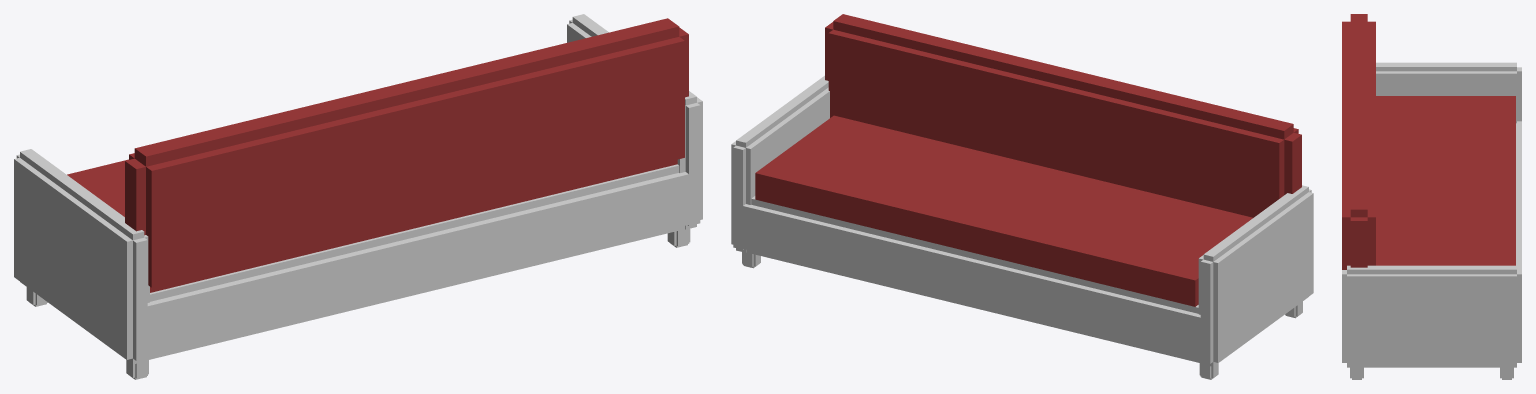
The model's file is wooden_sofa_v0.glb.
The picture shows the model from 3 angles, left to right: view 1: azimuth 30°, elevation 25°; view 2: azimuth 150°, elevation 25°; view 3: azimuth 270°, elevation 25°; orthographic projection. The views are drawn at different scales.
Parts seen in each view (by area): view 1: wooden_sofa_v0; view 2: wooden_sofa_v0; view 3: wooden_sofa_v0.
Part boxes in pixels (x1,y1,x2,y2): wooden_sofa_v0: (14, 14, 702, 379); wooden_sofa_v0: (731, 14, 1313, 379); wooden_sofa_v0: (1342, 14, 1521, 379).
Size of the model in its own units: 2.5 by 0.92 by 0.9.
